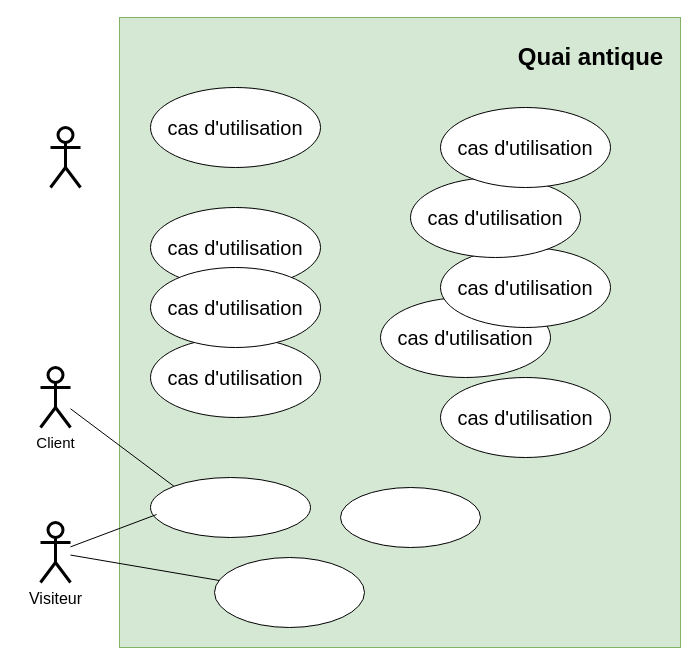
This 698x665 diagram has some shape labels left out. The box of each missing label's shape, as (x1, y1, x2, y2) in pixels:
Administrateur: (48, 126, 82, 188)
Connexion: (340, 486, 480, 548)
Inscription: (214, 556, 364, 628)
Réserver une table: (150, 476, 310, 538)
